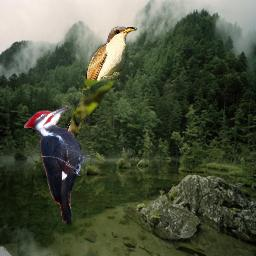Cuckoo: (62, 24, 138, 140)
Woodpecker: (24, 106, 90, 225)
